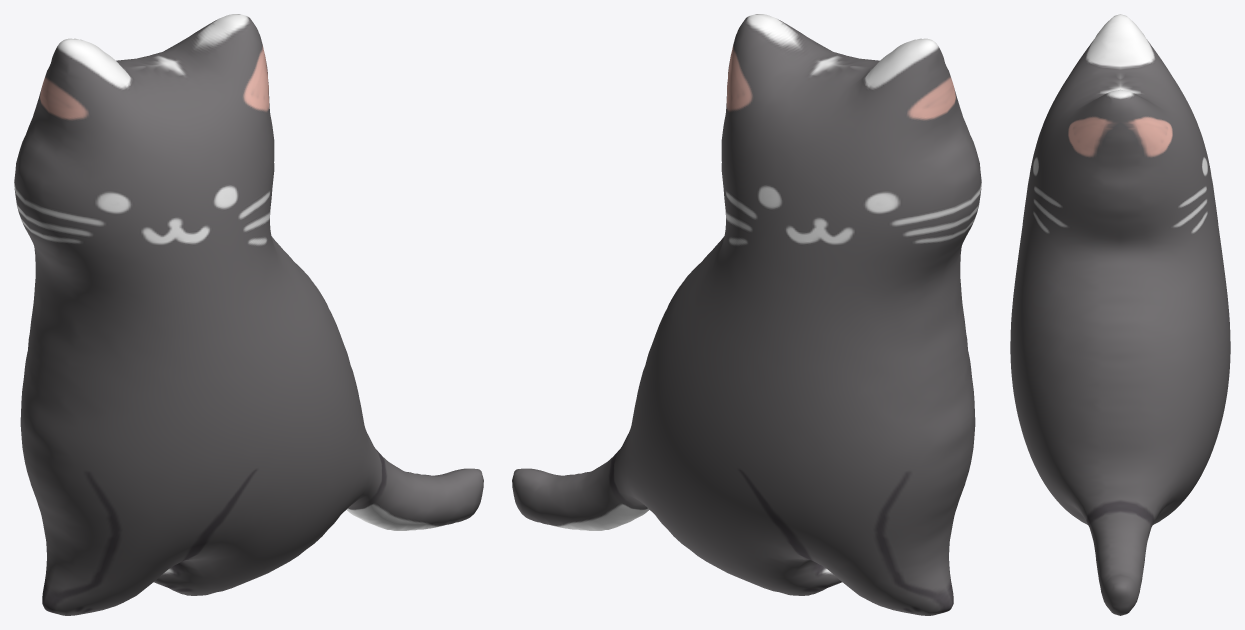
The model's file is asset.glb.
3 views of the same model, side by side, from view 1: azimuth 30°, elevation 25°; view 2: azimuth 150°, elevation 25°; view 3: azimuth 270°, elevation 25° (orthographic). The views are drawn at different scales.
Visible parts, largest first — view 1: Object_2; view 2: Object_2; view 3: Object_2.
Boxes of the visible parts, x1,y1,x2,y2 form: Object_2: [14, 14, 483, 615]; Object_2: [512, 14, 981, 615]; Object_2: [1010, 14, 1230, 615].
Size of the model in its own units: 5.37 by 6.51 by 2.85.
1 material, 1 textured.
